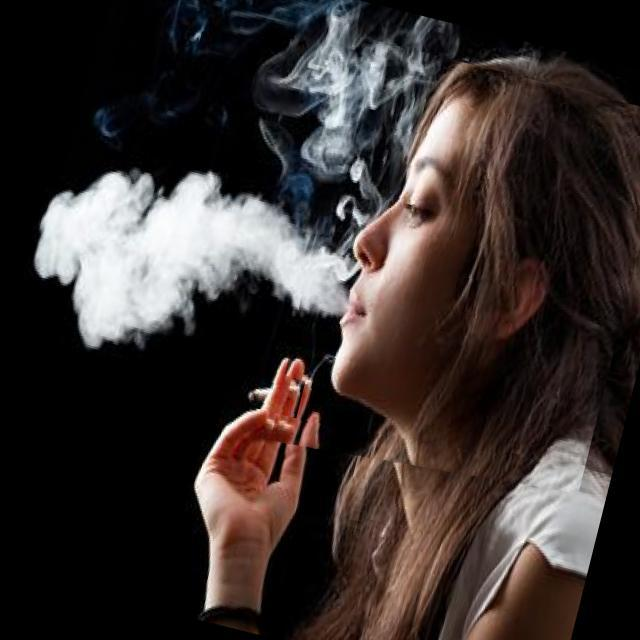cigarette: (226, 358, 306, 418)
